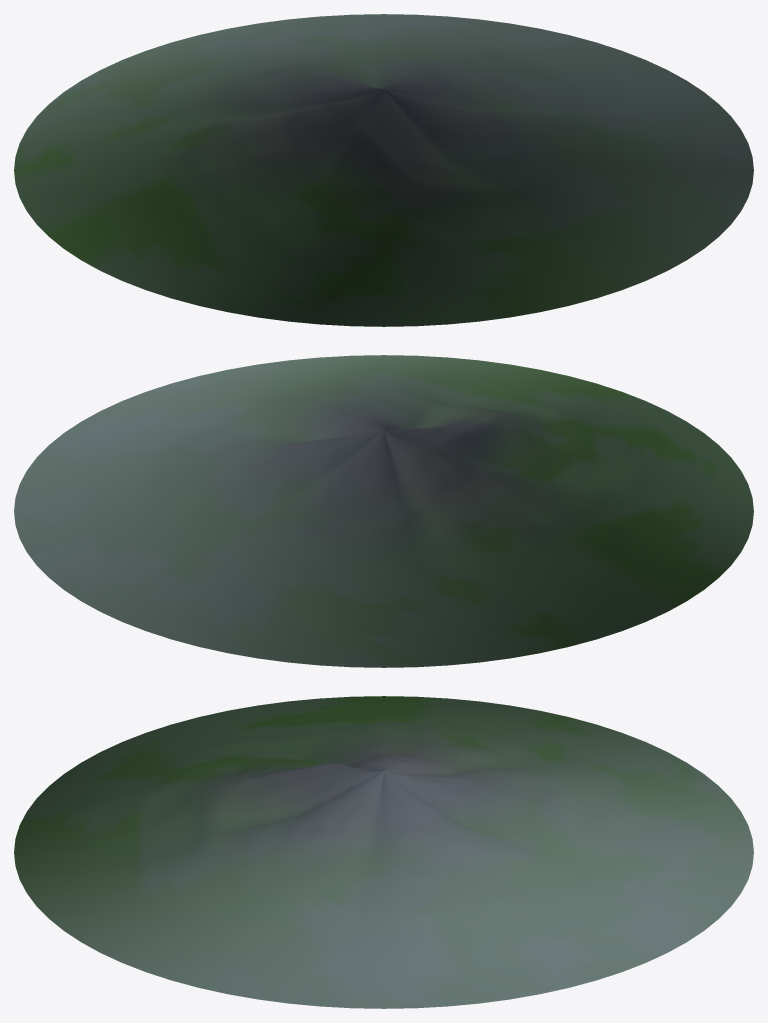
3 views of the same model, one above another, from view 1: azimuth 30°, elevation 25°; view 2: azimuth 150°, elevation 25°; view 3: azimuth 270°, elevation 25° (orthographic).
Visible parts, largest first — view 1: L4_1_Peak8; view 2: L4_1_Peak8; view 3: L4_1_Peak8.
Part boxes in pixels (x1,y1,x2,y2): L4_1_Peak8: (14, 14, 753, 326); L4_1_Peak8: (14, 355, 753, 667); L4_1_Peak8: (14, 696, 753, 1008).
Size of the model in its own units: 1287 by 156 by 1287.
